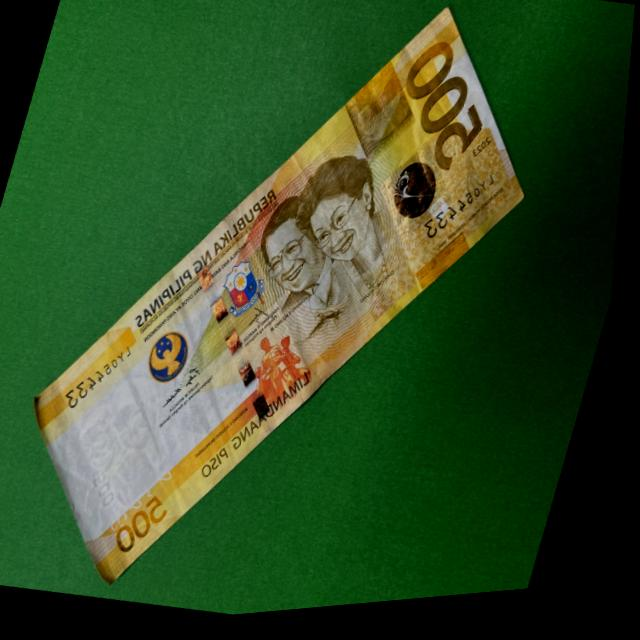concealed_value: (349, 65, 418, 168)
optically_variable_device: (383, 148, 455, 244)
security_thread: (186, 242, 291, 446)
see_through_mark: (105, 466, 187, 545)
serial_number: (419, 171, 504, 256), (59, 335, 143, 421)
value: (402, 37, 488, 183)
value_watermark: (96, 470, 130, 513)
watermark: (63, 367, 184, 536)
